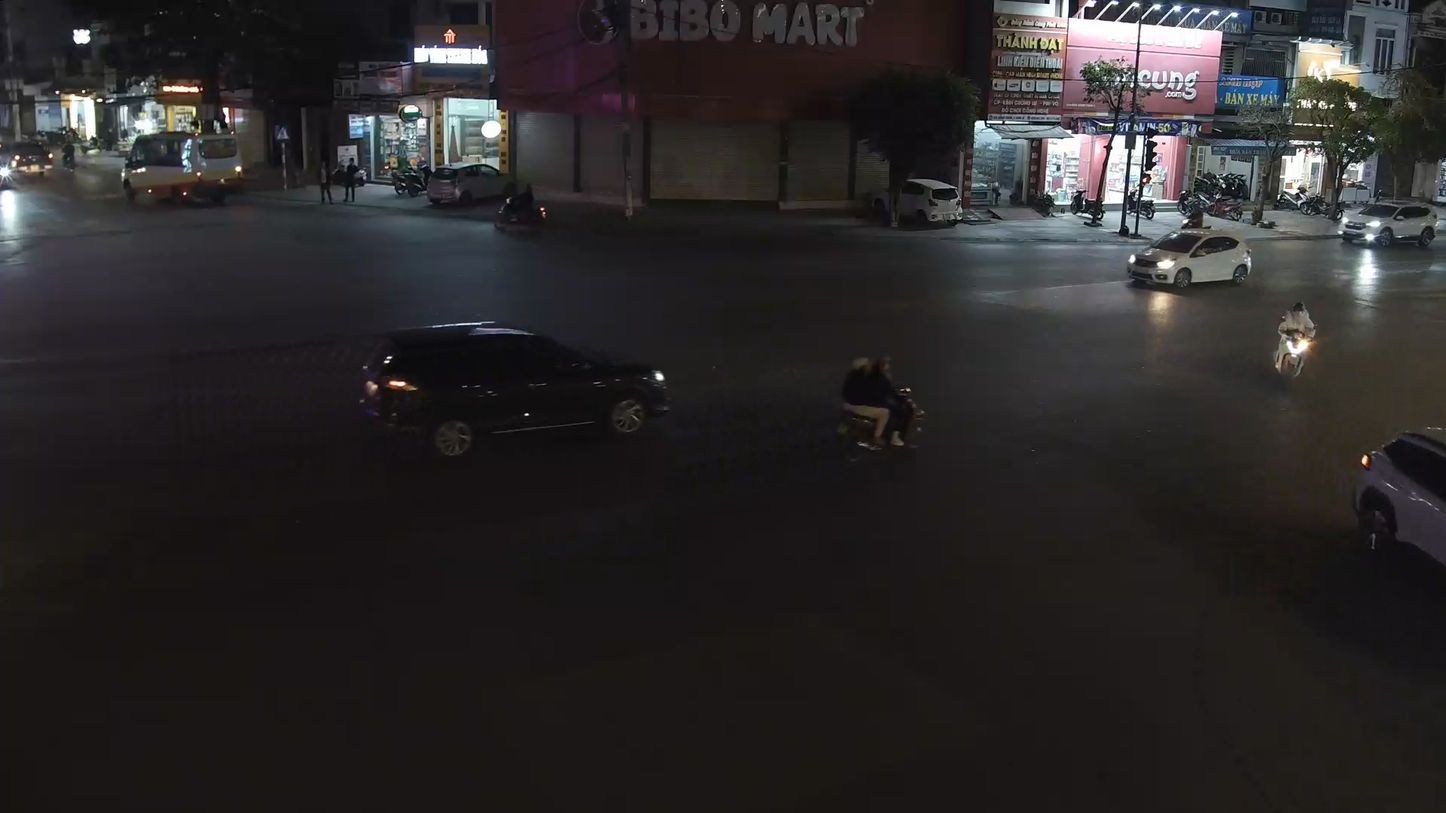car: (355, 318, 672, 457), (1351, 422, 1445, 611), (120, 129, 241, 208), (1127, 225, 1256, 291)
motorbike: (834, 353, 928, 462), (1269, 298, 1320, 387), (492, 178, 549, 235)
